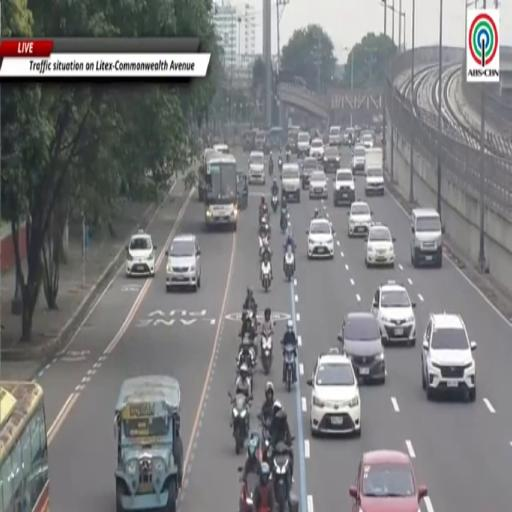bus: (0, 381, 49, 511), (205, 154, 238, 230), (266, 126, 285, 150)
car: (421, 313, 476, 402), (349, 451, 427, 511), (307, 348, 360, 436), (338, 312, 386, 383), (372, 281, 416, 345), (166, 234, 201, 292), (411, 208, 443, 267), (126, 230, 156, 277), (365, 223, 395, 267), (306, 219, 333, 259), (348, 202, 372, 237), (365, 153, 384, 196), (333, 169, 355, 205), (282, 163, 300, 202), (301, 157, 320, 189), (309, 170, 328, 200), (249, 151, 265, 184), (323, 145, 341, 173), (352, 144, 366, 174), (309, 138, 324, 161), (298, 132, 310, 157), (328, 126, 342, 146), (343, 127, 355, 146), (361, 132, 374, 149), (213, 143, 229, 154)
jeepney: (115, 376, 183, 511), (198, 148, 216, 202), (237, 169, 248, 210), (243, 130, 257, 152)
motorcycle: (271, 442, 291, 511), (228, 393, 250, 454), (237, 338, 257, 377), (240, 473, 259, 511), (283, 346, 296, 392), (260, 330, 273, 376), (259, 415, 271, 461), (240, 310, 257, 339), (284, 245, 294, 281), (261, 263, 271, 292), (260, 237, 272, 261), (259, 236, 269, 258), (259, 206, 268, 228), (280, 210, 287, 233), (271, 195, 278, 213), (268, 156, 274, 177), (286, 150, 291, 163), (278, 156, 282, 172)
truck: (365, 148, 384, 196)
